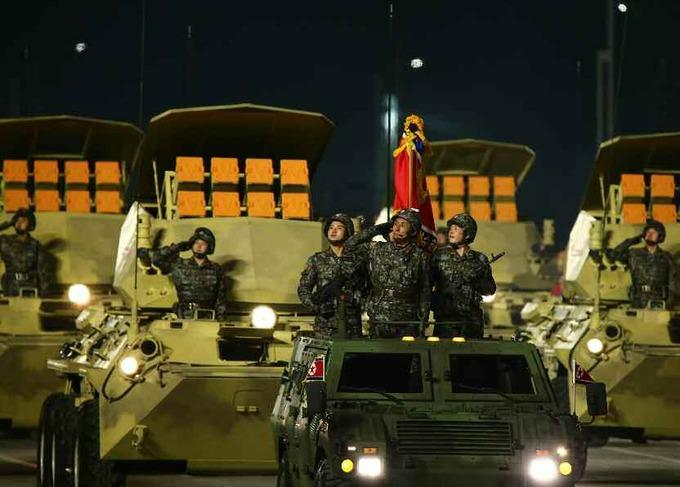MIL_IFV: (269, 329, 594, 487)
